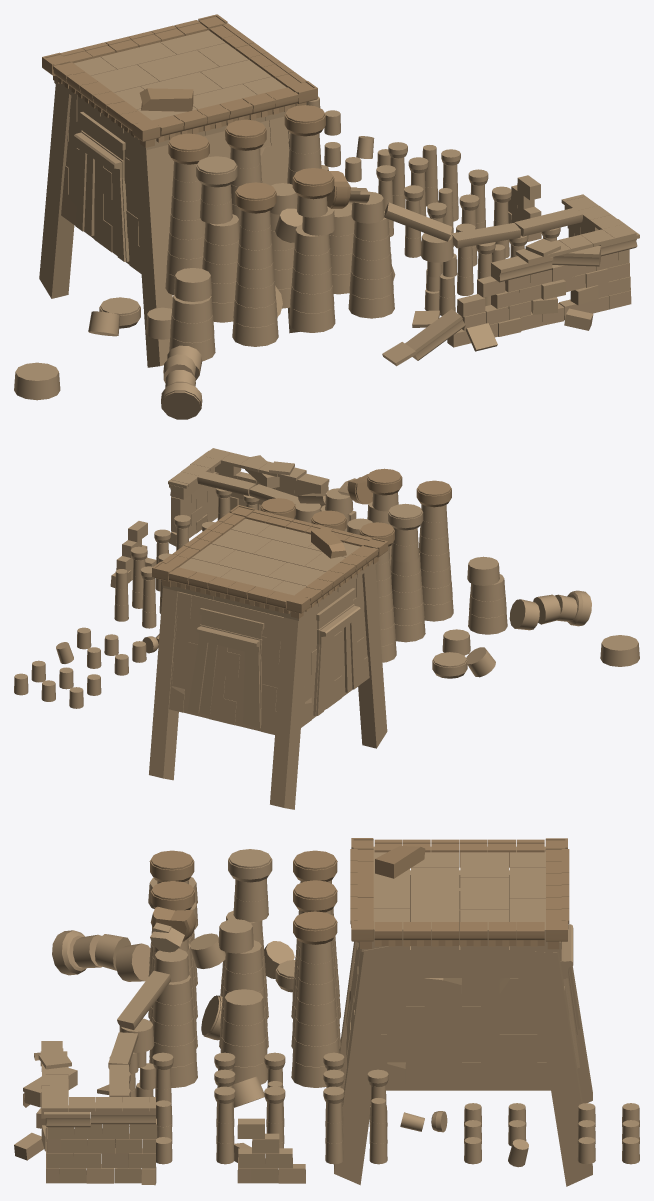
File: egypt_neighborbuilding.fbx
The picture shows the model from 3 angles, top to bottom: view 1: azimuth 30°, elevation 25°; view 2: azimuth 150°, elevation 25°; view 3: azimuth 270°, elevation 25°; orthographic projection. The views are drawn at different scales.
Visible parts, largest first — view 1: pCube195, templewall2, group31, column_big6_pCylinder20, column_big2_pCylinder20, column_big6_pCylinder45, column_big9_pCylinder20, column_big1_pCylinder1, column_big_pCylinder1, column_big5_pCylinder2, column_big7_pCylinder45, column_big8_pCylinder44 (+10 smaller); view 2: pCube195, column_big6_pCylinder20, group31, templewall2, column_big2_pCylinder20, column_big6_pCylinder45, column_big9_pCylinder20, pCylinder20, pCube193, roofstone, pCylinder42, column_big7_pCylinder45 (+2 smaller); view 3: pCube195, templewall2, group31, column_big7_pCylinder45, column_big6_pCylinder20, column_big5_pCylinder2, column_big4_pCylinder42, column_big_pCylinder1, column_big6_pCylinder45, column_big8_pCylinder44, column_big9_pCylinder20, column_big2_pCylinder20 (+8 smaller).
Part boxes in pixels (x1,y1,x2,y2): pCube195: (39, 14, 317, 367); templewall2: (382, 175, 639, 366); group31: (306, 96, 560, 315); column_big6_pCylinder20: (14, 268, 215, 419); column_big2_pCylinder20: (232, 182, 278, 346); column_big6_pCylinder45: (196, 156, 239, 322); column_big9_pCylinder20: (165, 133, 209, 294); column_big1_pCylinder1: (289, 224, 335, 332); column_big_pCylinder1: (348, 211, 394, 318); column_big5_pCylinder2: (270, 183, 302, 316); column_big7_pCylinder45: (284, 105, 325, 184); column_big8_pCylinder44: (225, 119, 266, 226); pCube195: (149, 505, 388, 809); column_big6_pCylinder20: (432, 556, 639, 678); group31: (14, 488, 321, 708); templewall2: (110, 448, 363, 587); column_big2_pCylinder20: (416, 480, 453, 621); column_big6_pCylinder45: (388, 503, 425, 642); column_big9_pCylinder20: (359, 522, 396, 662); pCylinder20: (367, 468, 402, 495); pCube193: (197, 471, 255, 495); roofstone: (311, 527, 346, 558); pCylinder42: (325, 488, 353, 514); column_big7_pCylinder45: (260, 498, 295, 518); pCube195: (334, 838, 592, 1186); templewall2: (14, 1041, 305, 1185); group31: (109, 1018, 639, 1167); column_big7_pCylinder45: (291, 911, 339, 1087); column_big6_pCylinder20: (52, 877, 295, 992); column_big5_pCylinder2: (190, 919, 268, 1048); column_big4_pCylinder42: (220, 989, 267, 1107); column_big_pCylinder1: (149, 975, 197, 1087); column_big6_pCylinder45: (220, 849, 272, 1018); column_big8_pCylinder44: (291, 880, 340, 1048); column_big9_pCylinder20: (291, 850, 340, 1018); column_big2_pCylinder20: (148, 850, 197, 1018).
Bounding box in the file's own units: 43.55 × 18.75 × 39.16.
